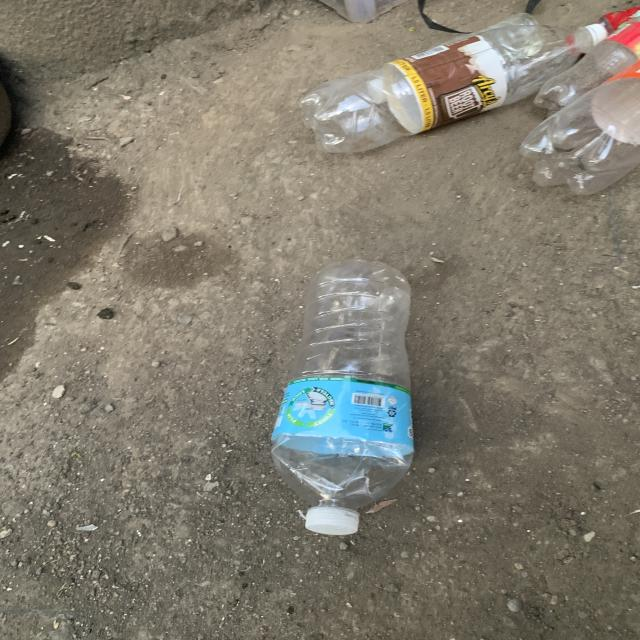Bottle: (272, 259, 414, 535)
